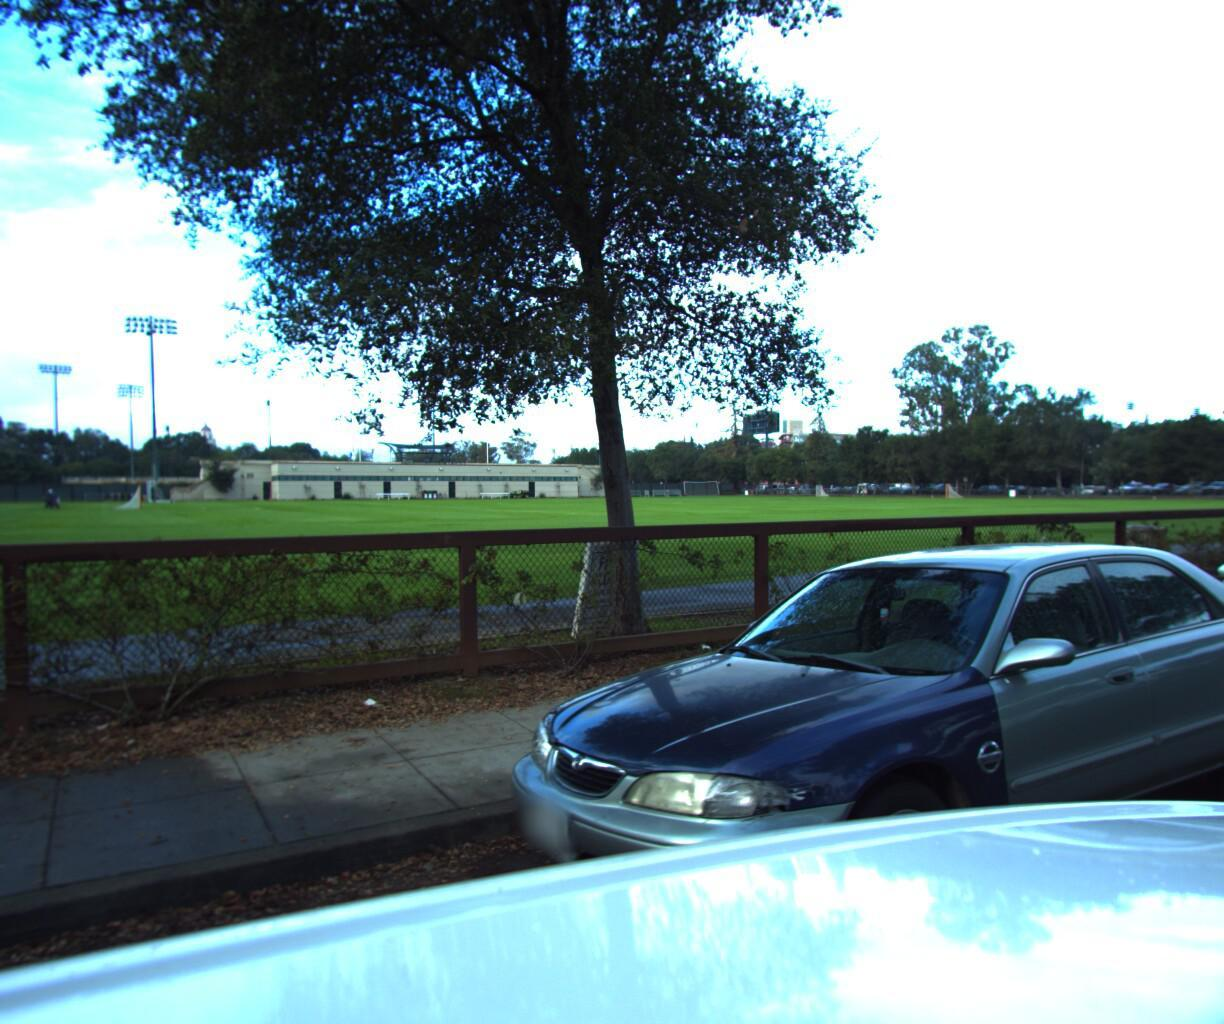car: (441, 521, 1224, 1024), (1142, 495, 1224, 767)
